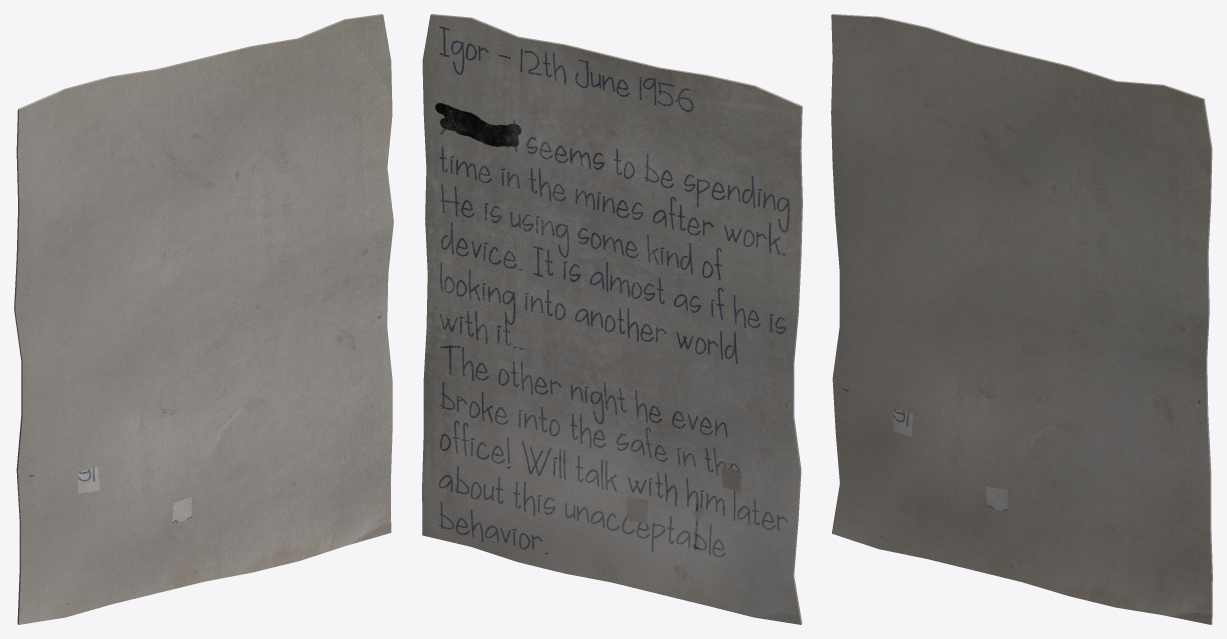
Rendered from IgorNote.fbx.
3 renders of one model, left to right at view 1: azimuth 30°, elevation 25°; view 2: azimuth 150°, elevation 25°; view 3: azimuth 330°, elevation 25°, orthographic.
Visible parts, largest first — view 1: Note; view 2: Note; view 3: Note.
Boxes of the visible parts, box(x1,y1,x2,y2) form: Note: box(14, 14, 393, 624); Note: box(422, 14, 802, 624); Note: box(831, 14, 1212, 624).
Bounding box in the file's own units: 23.46 × 31.69 × 0.9146.
2 materials, 2 textured.
